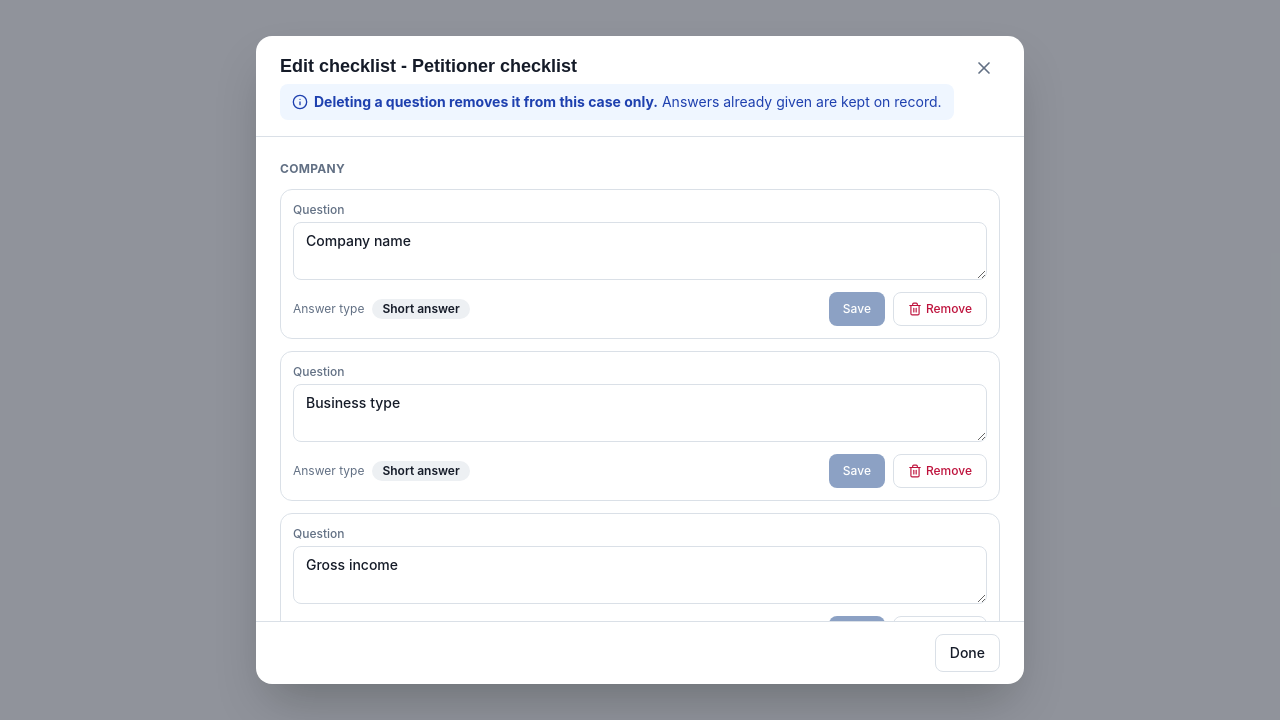
it: ChecklistEditorModal - instant edits › puts the question back, with the reason, when the server refuses the change for good
Expected: the 2nd text box showing "Business type" is shown, [293,384,987,442]
Click the 2nd button "Remove": coordinates (940, 471) [893,454,987,488]
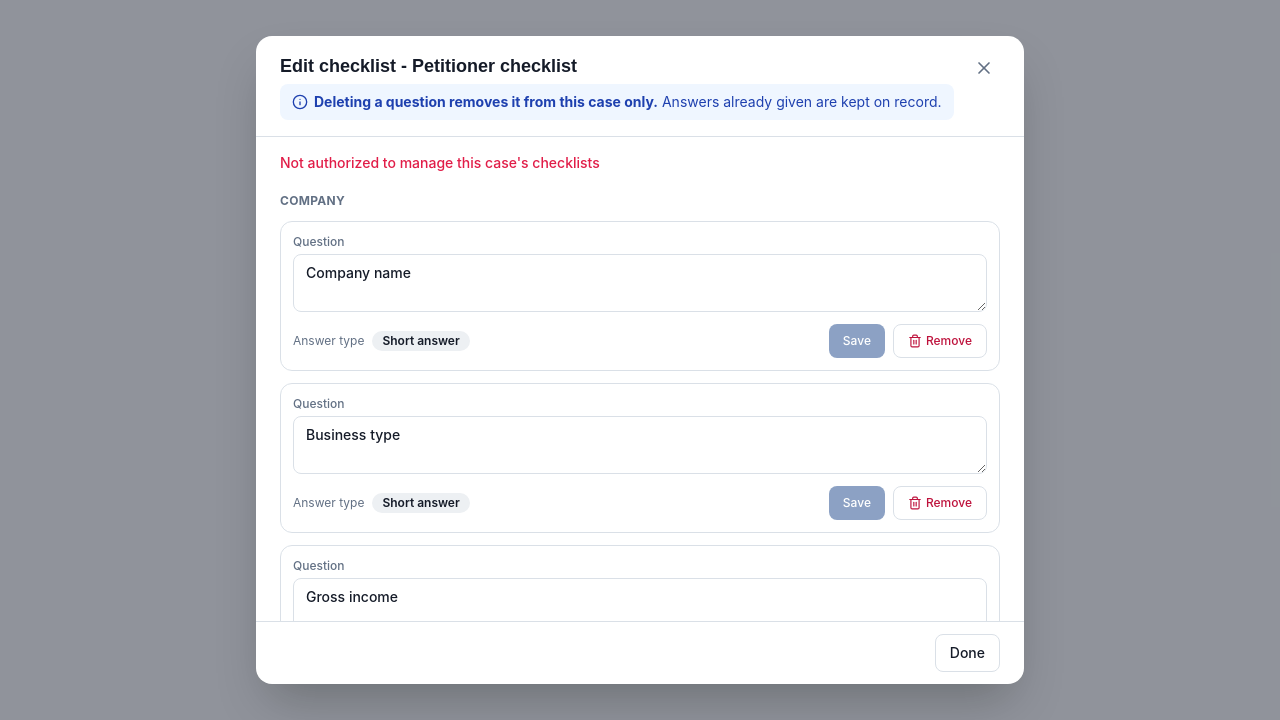
Expected: the 2nd text box showing "Business type" is shown, [293,416,987,474]
Now the message shows "Not authorized", box [280,154,600,171]
